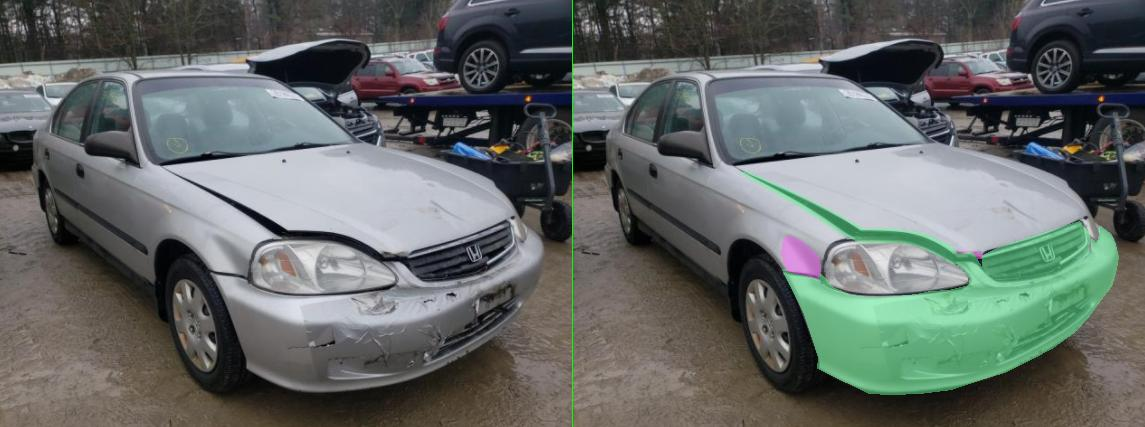Broken part: (418, 225, 1091, 394), (334, 172, 773, 264), (819, 221, 1033, 281)
Dent: (416, 235, 494, 278), (757, 250, 819, 258)
Flaking: (951, 281, 1033, 310), (651, 355, 717, 363)
